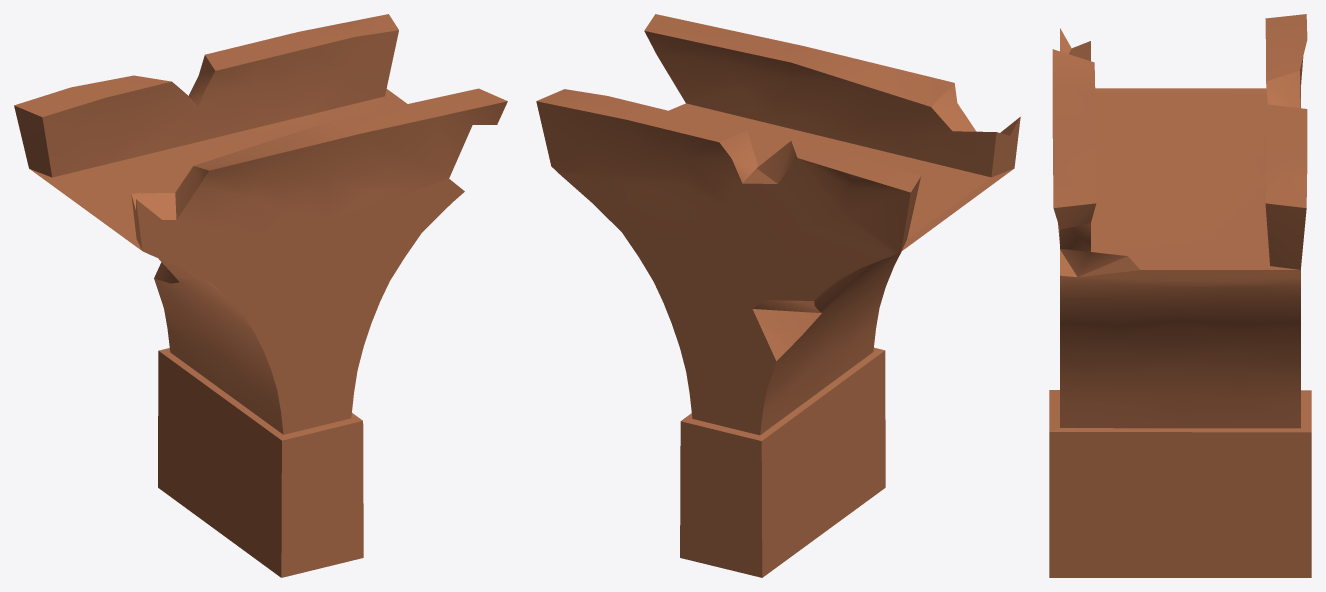
File: old_bridge01.fbx
3 renders of one model, left to right at view 1: azimuth 30°, elevation 25°; view 2: azimuth 150°, elevation 25°; view 3: azimuth 270°, elevation 25°, orthographic. The views are drawn at different scales.
Parts seen in each view (by area): view 1: old_bridge01; view 2: old_bridge01; view 3: old_bridge01.
Part boxes in pixels (left/top/right/bottom): old_bridge01: left=14, top=14, right=507, bottom=577; old_bridge01: left=536, top=14, right=1020, bottom=577; old_bridge01: left=1049, top=14, right=1311, bottom=577.
Size of the model in its own units: 9.1 by 9.83 by 5.2.
